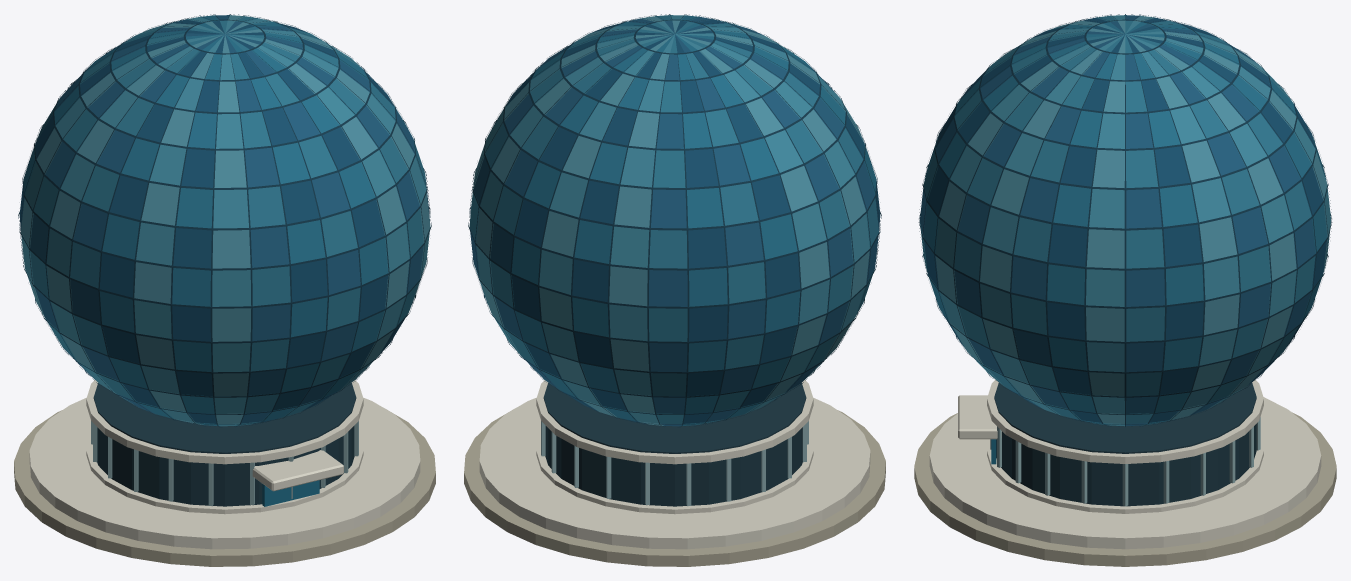
File: nur-alem.glb
3 renders of one model, left to right at view 1: azimuth 30°, elevation 25°; view 2: azimuth 150°, elevation 25°; view 3: azimuth 270°, elevation 25°, orthographic.
Visible parts, largest first — view 1: nur-alem; view 2: nur-alem; view 3: nur-alem.
Part boxes in pixels (x1,y1,x2,y2): nur-alem: (14,14,435,566); nur-alem: (464,14,885,566); nur-alem: (914,14,1336,566).
Size of the model in its own units: 3.8 by 4.4 by 3.8.
